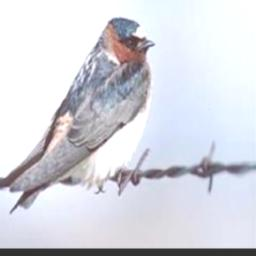Swallow: (0, 15, 152, 218)
